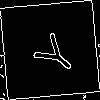Y: (25, 25, 82, 81)
